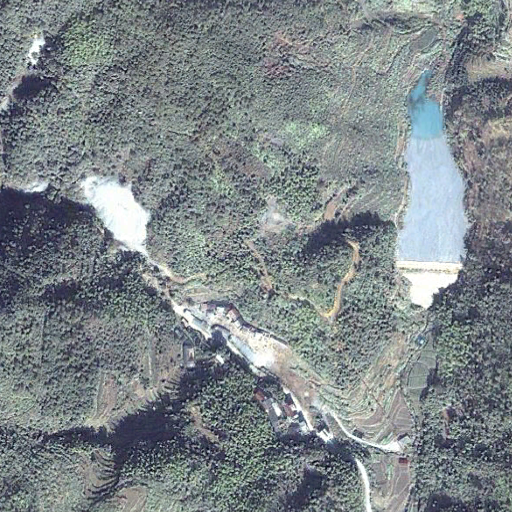tp: (394, 70, 473, 312)
